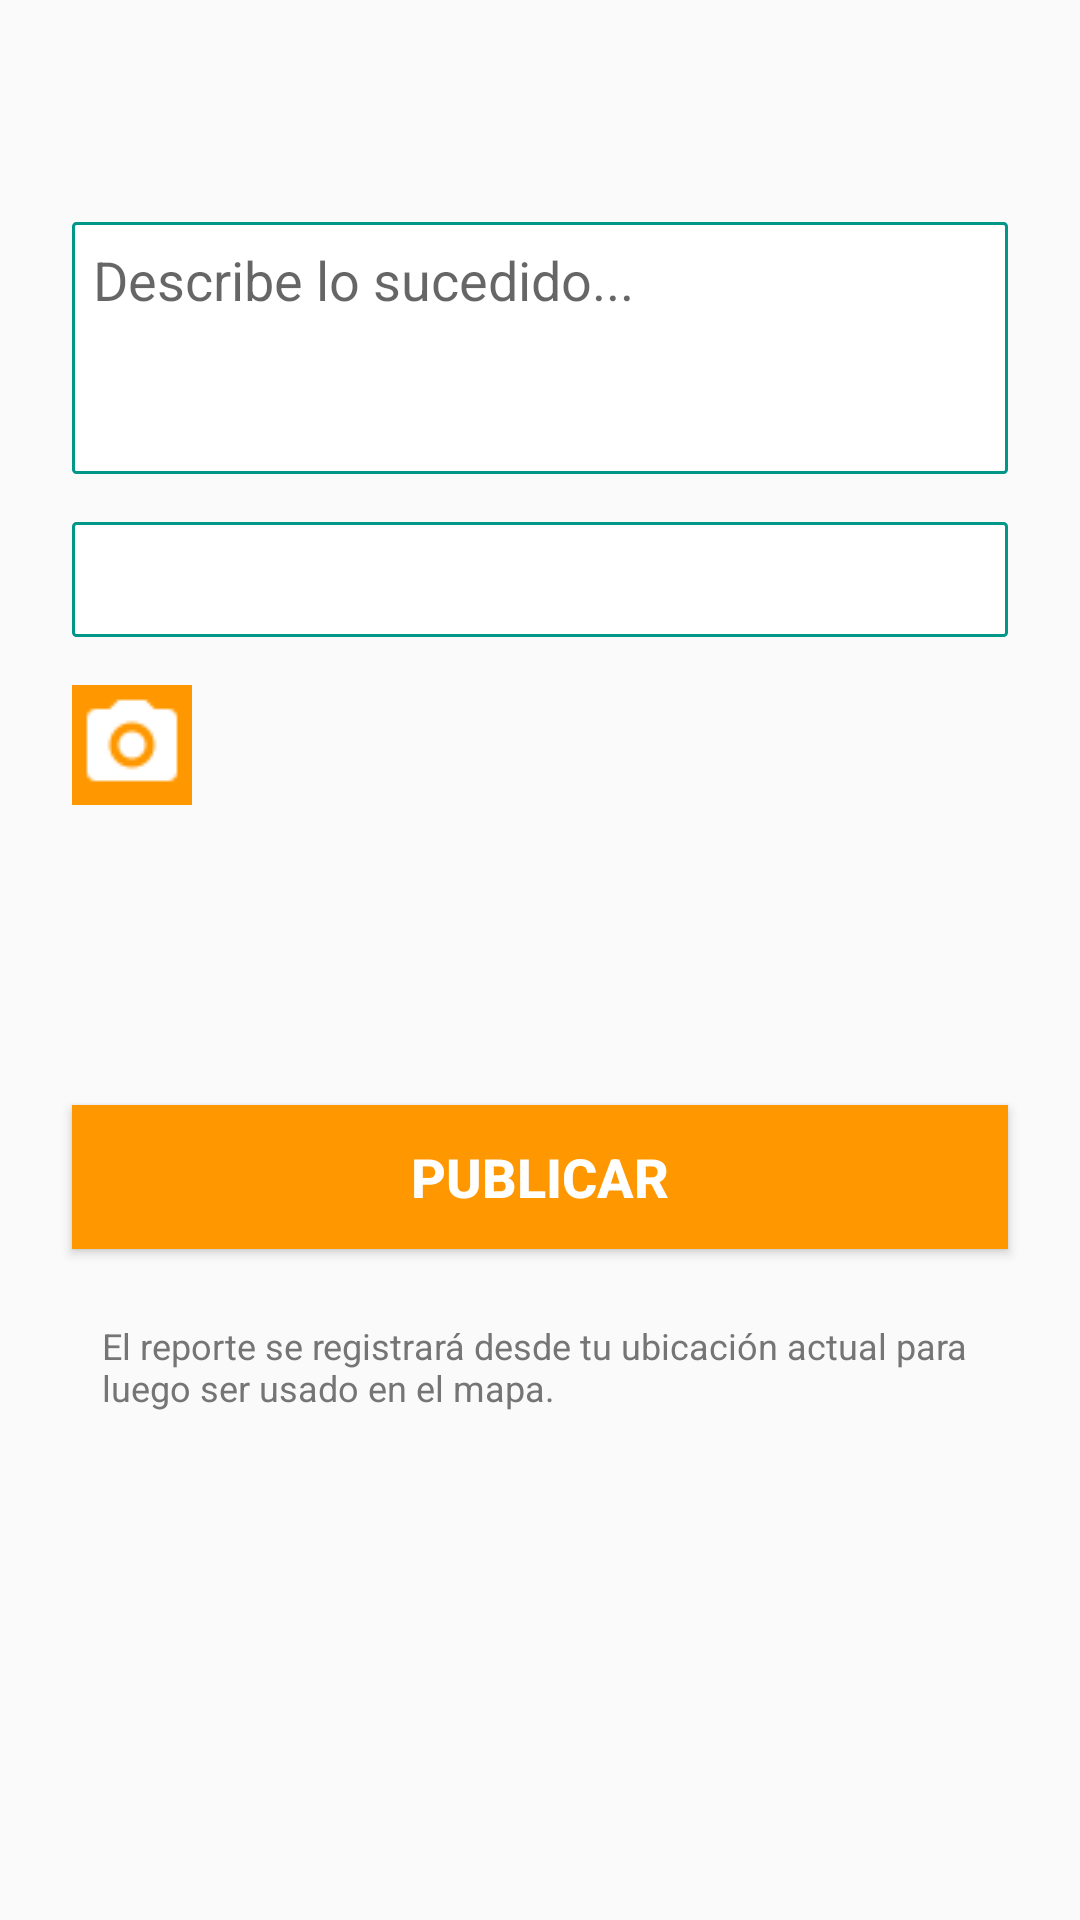

Named icons in this screenshot (1080px×1920px) and their bounding boxes, [left=x1, top=y1, right=x2, bottom=y2]:
Image Camera: [left=72, top=685, right=192, bottom=805]
